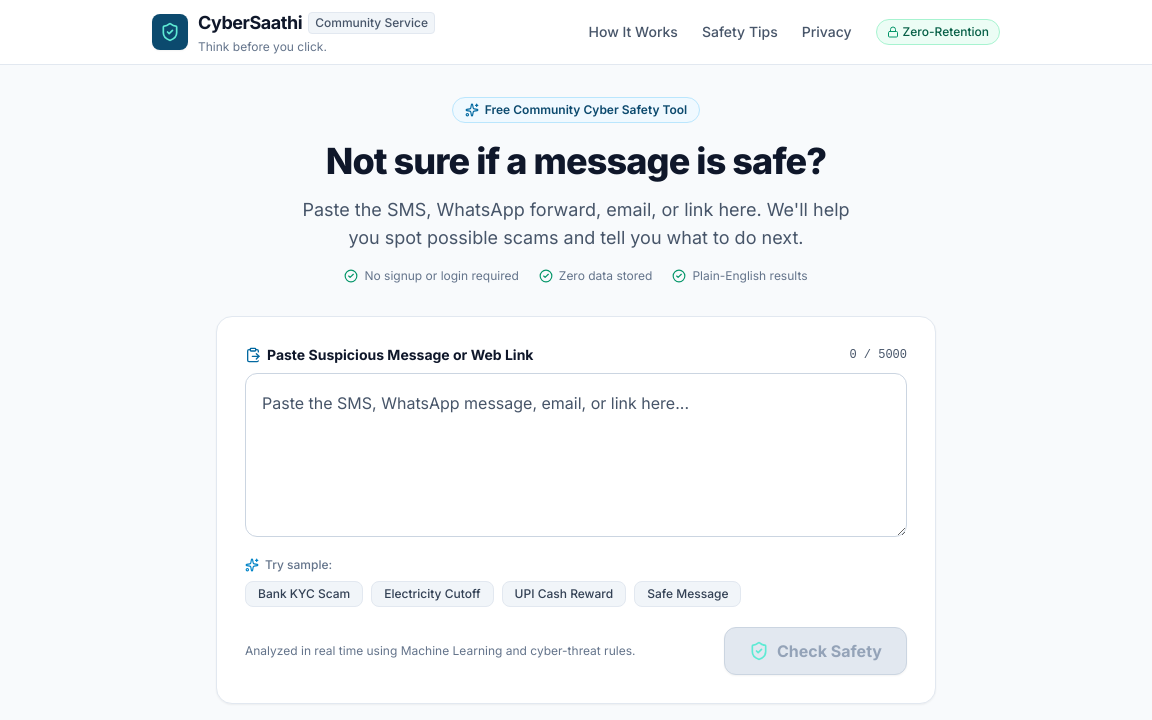
it: CyberSaathi Frontend Application › handles backend error and shows retry instructions
This screenshot has width=1152, height=720.
Type "Test message for failure" into the text box with placeholder "Paste the SMS, WhatsApp message, email, or link here..." at coordinates (576, 455), box 245,373 -> 907,537
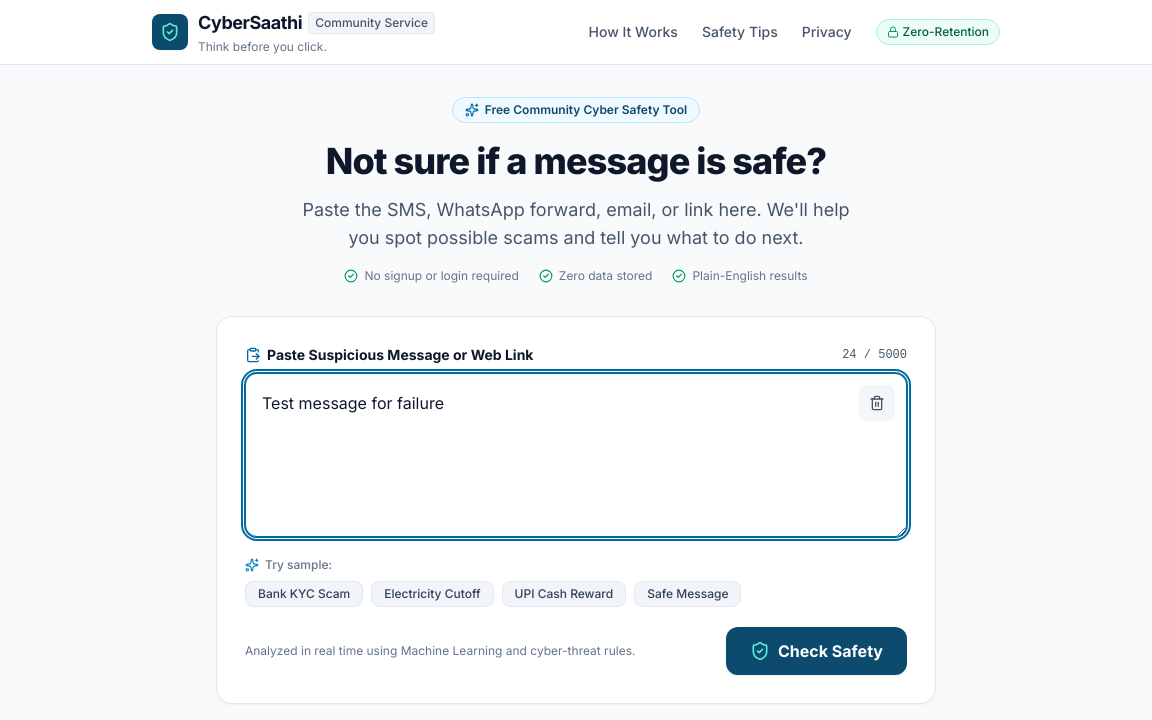
Click the button "Check Safety" at coordinates (816, 651), box 726,627 -> 907,675
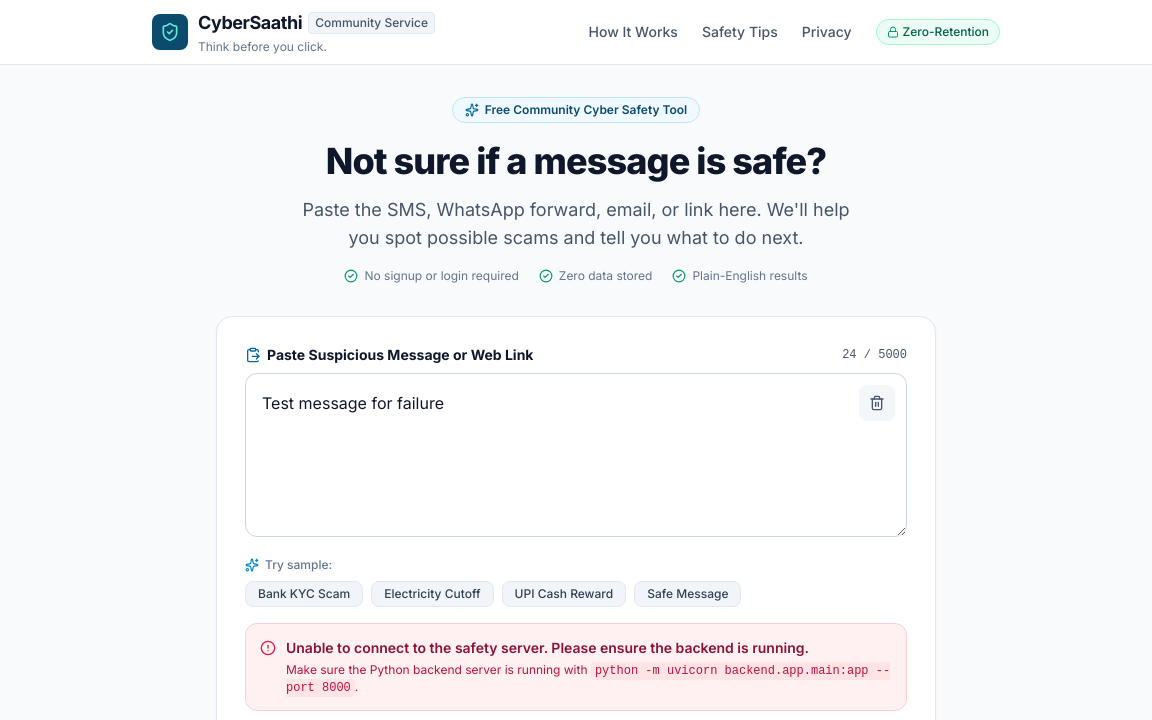
Expected: the message is shown, 245,623 -> 907,711
Expected: the text "Unable to connect to the safety server" is shown, 286,639 -> 809,656
